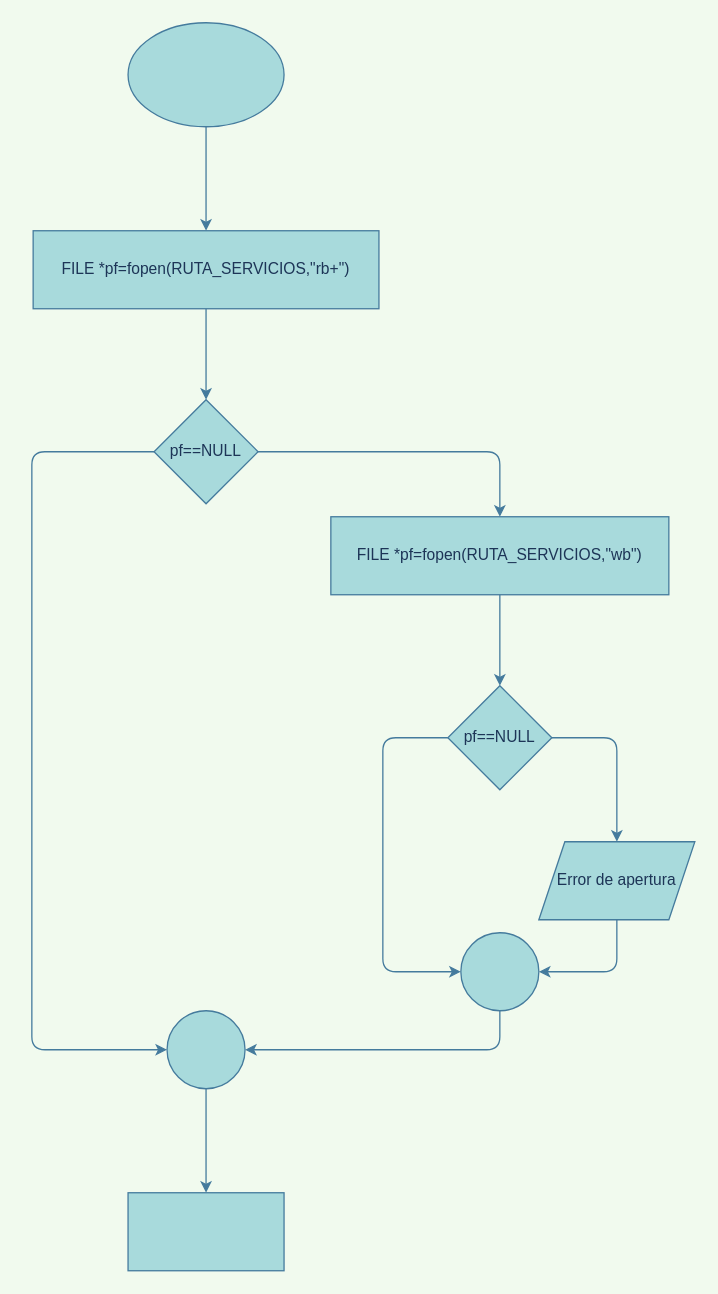
This 718x1294 diagram has some shape labels left out. The centre of each missing label's shape, as x and y in pixels:
"INICIO" goes at point 205,74.
"pedirDatosServicio()" goes at point 205,1231.
